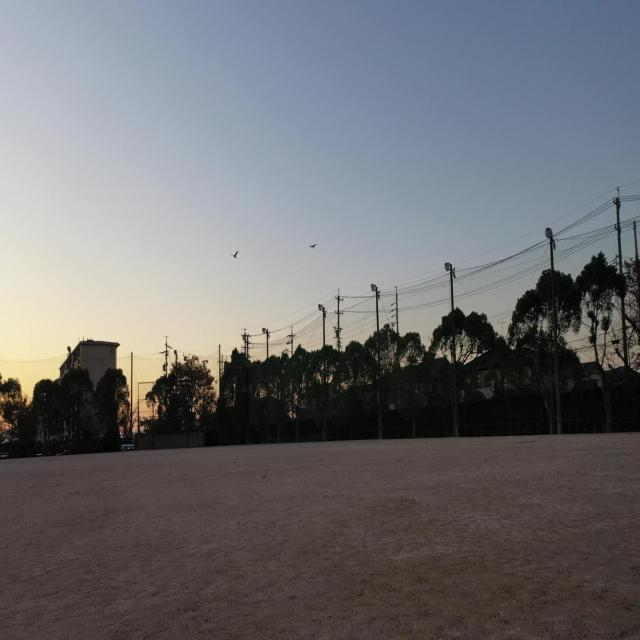Birds: (230, 250, 238, 258), (310, 242, 318, 248)
